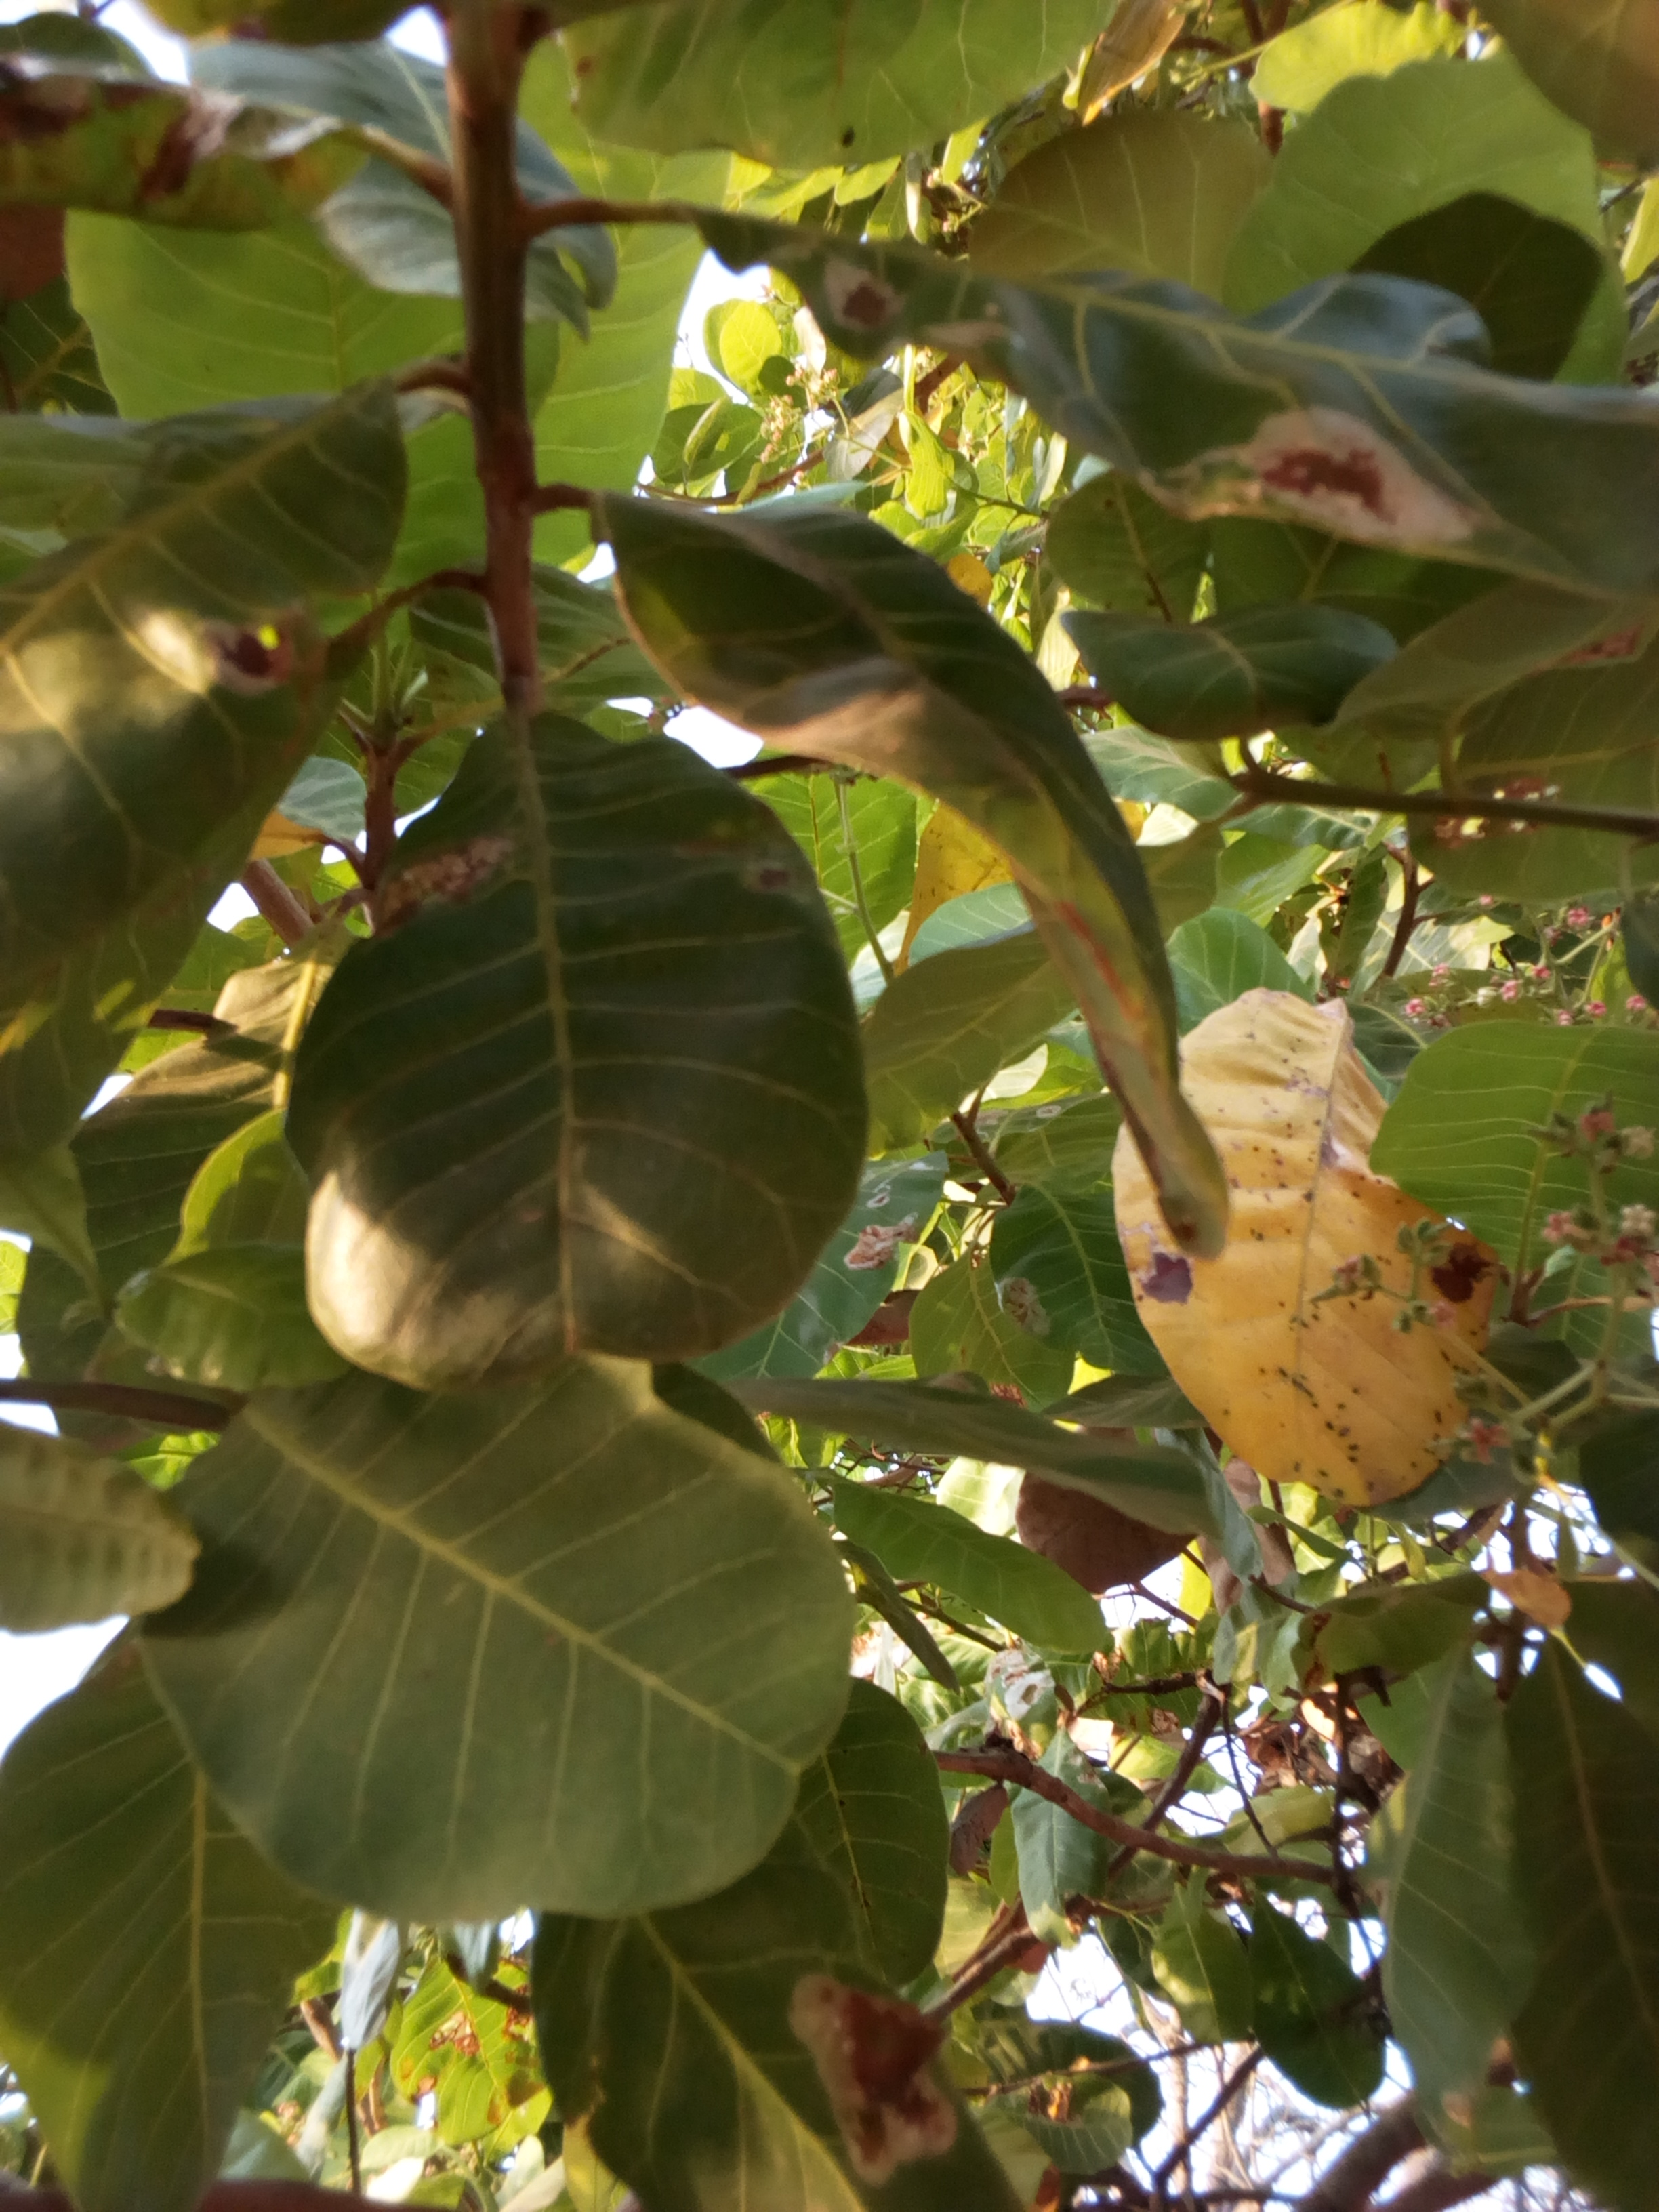Anthracnose: (253, 697, 861, 1371), (1107, 970, 1511, 1493)
